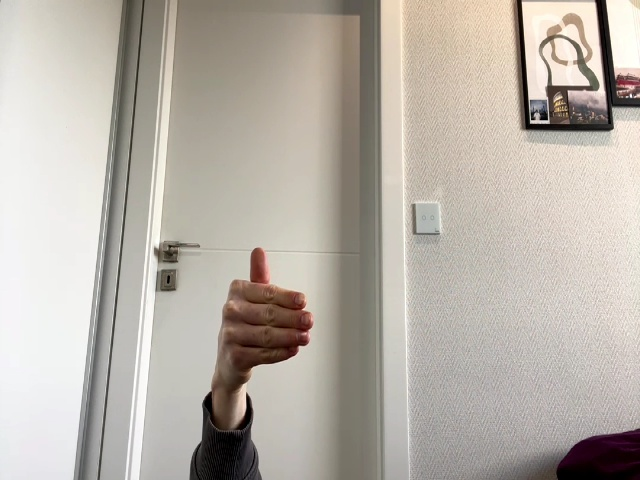M: (222, 248, 314, 370)
